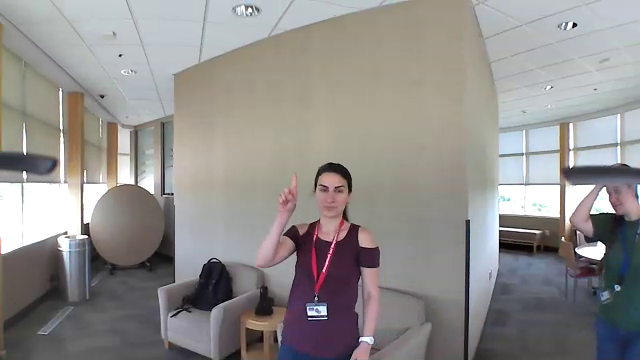up: (278, 167, 302, 216)
